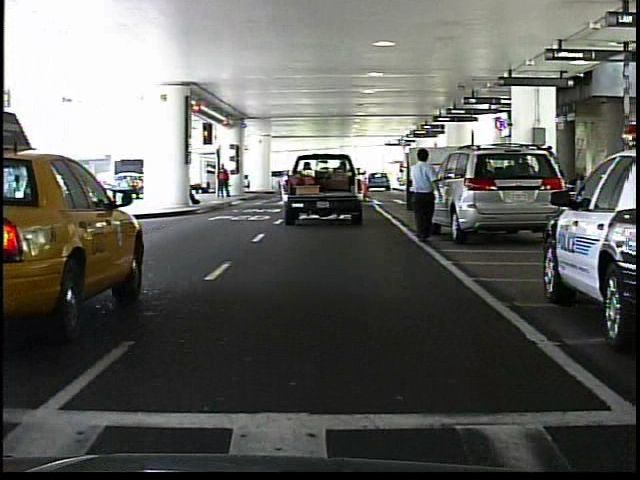person: (402, 145, 447, 243), (215, 163, 235, 202)
